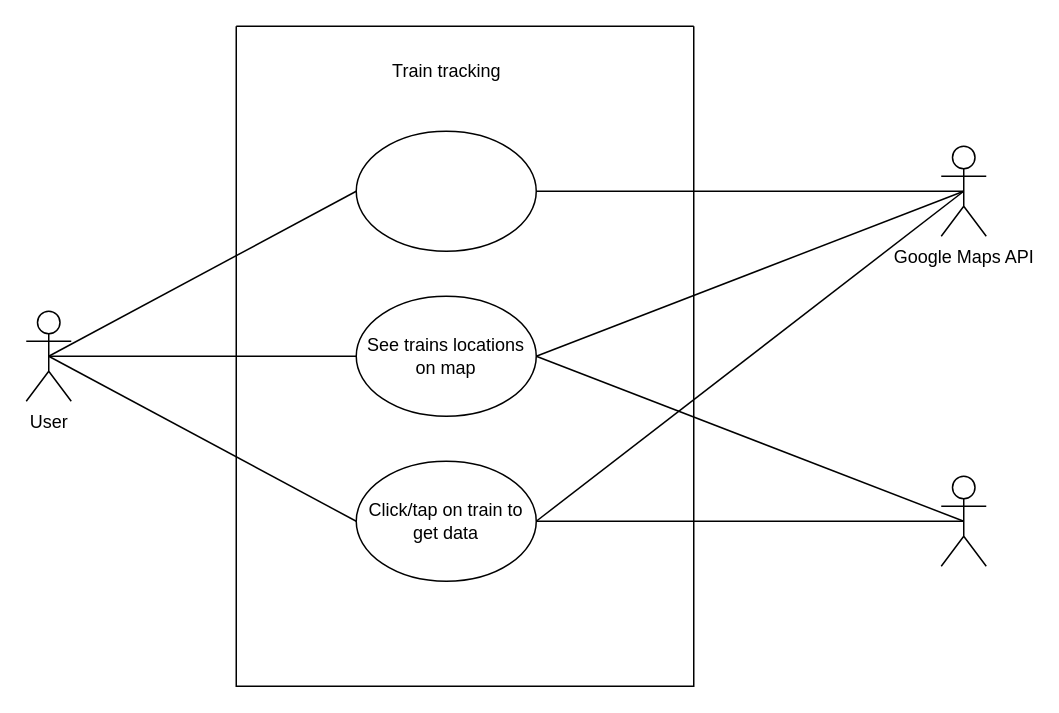
The diagram is 1059 pixels wide and 713 high, and some of its shapes have lost their labels. Each missing label, with the box of its shape:
Digitraffic API: (940, 475, 986, 566)
Open website: (355, 130, 536, 251)
